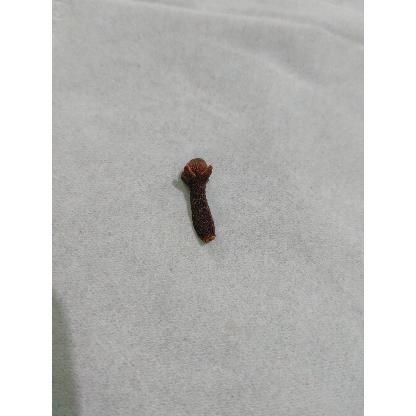baik: (180, 158, 216, 245)
